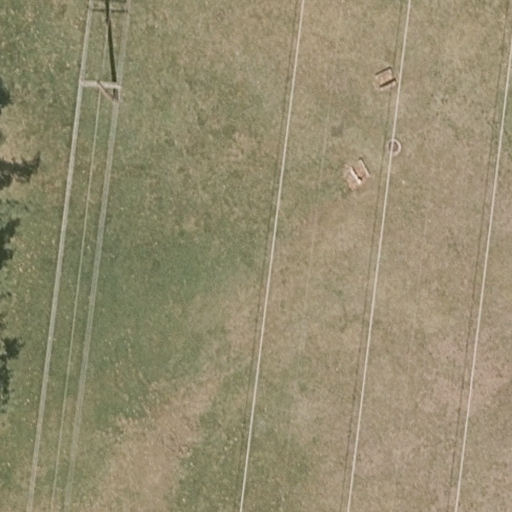DT: (80, 77, 122, 105)
